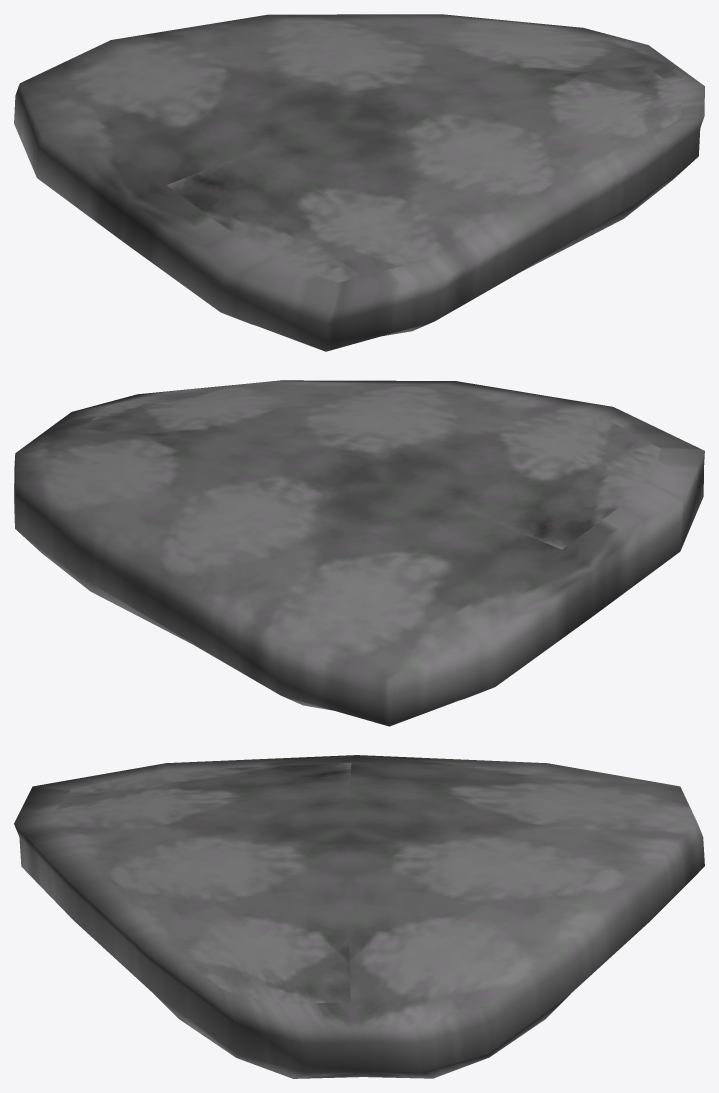
Rendered from AlphaScale.fbx.
3 renders of one model, top to bottom at view 1: azimuth 30°, elevation 25°; view 2: azimuth 150°, elevation 25°; view 3: azimuth 270°, elevation 25°, orthographic. The views are drawn at different scales.
Visible parts, largest first — view 1: Shell; view 2: Shell; view 3: Shell.
Boxes of the visible parts, left/top/right/bottom form: Shell: left=14, top=14, right=704, bottom=351; Shell: left=14, top=380, right=704, bottom=726; Shell: left=14, top=755, right=704, bottom=1078.
Bounding box in the file's own units: 0.5953 × 0.1088 × 0.6238.
